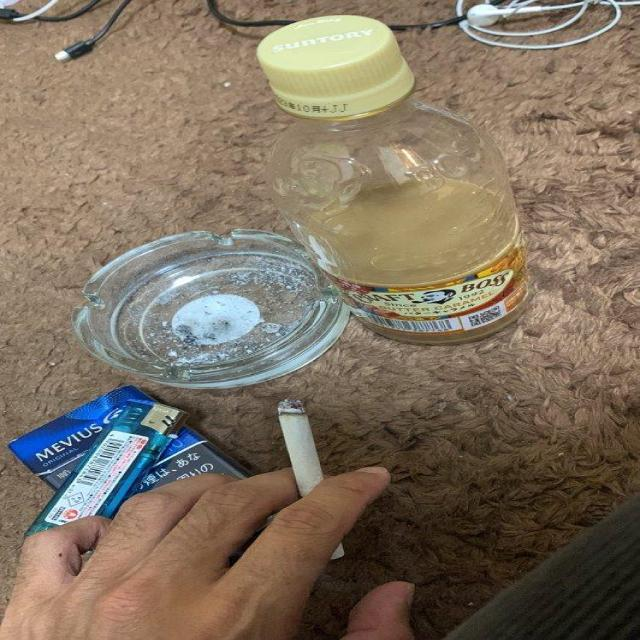rokok: (276, 400, 344, 560)
